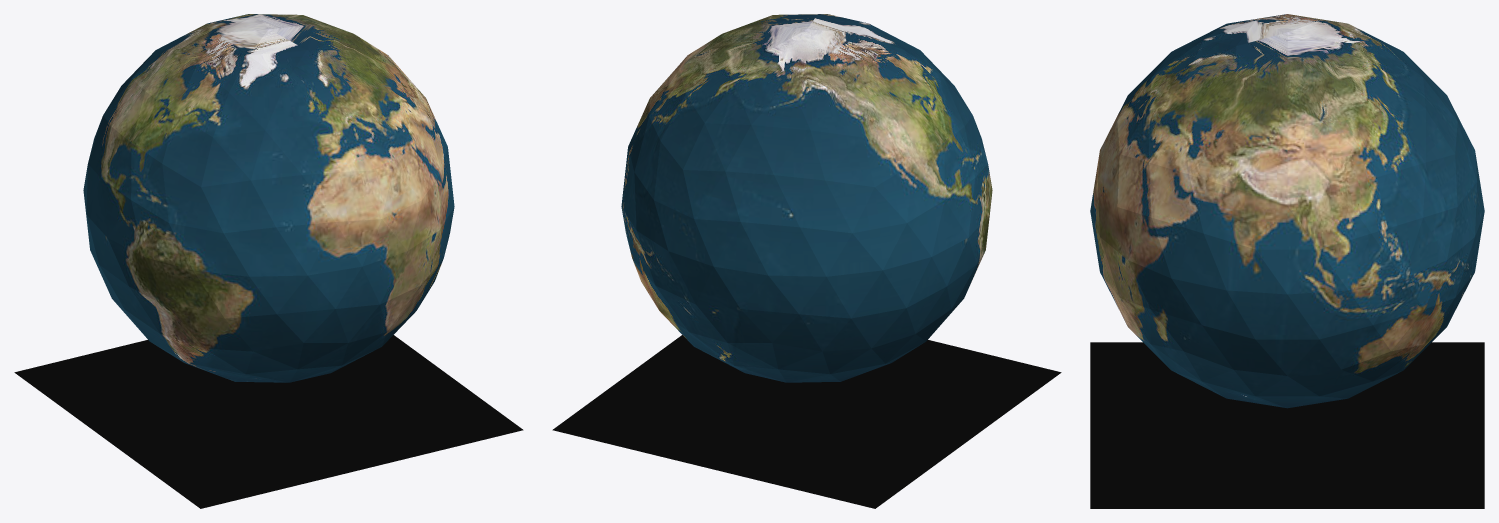
The model's file is earth.dae.
3 views of the same model, side by side, from view 1: azimuth 30°, elevation 25°; view 2: azimuth 150°, elevation 25°; view 3: azimuth 270°, elevation 25° (orthographic). The views are drawn at different scales.
Parts seen in each view (by area): view 1: Earth, Shadow; view 2: Earth, Shadow; view 3: Earth, Shadow.
Part boxes in pixels (<box>): Earth: <box>83,14,454,382</box>; Shadow: <box>14,335,523,508</box>; Earth: <box>621,14,992,382</box>; Shadow: <box>552,335,1061,508</box>; Earth: <box>1090,14,1484,408</box>; Shadow: <box>1090,342,1484,508</box>.
Bounding box in the file's own units: 10 × 10 × 11.
